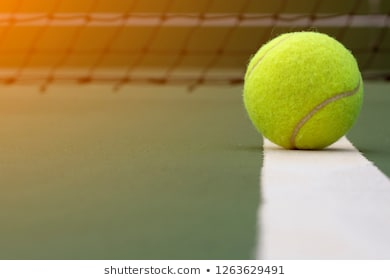tennis_ball: (239, 30, 367, 155)
